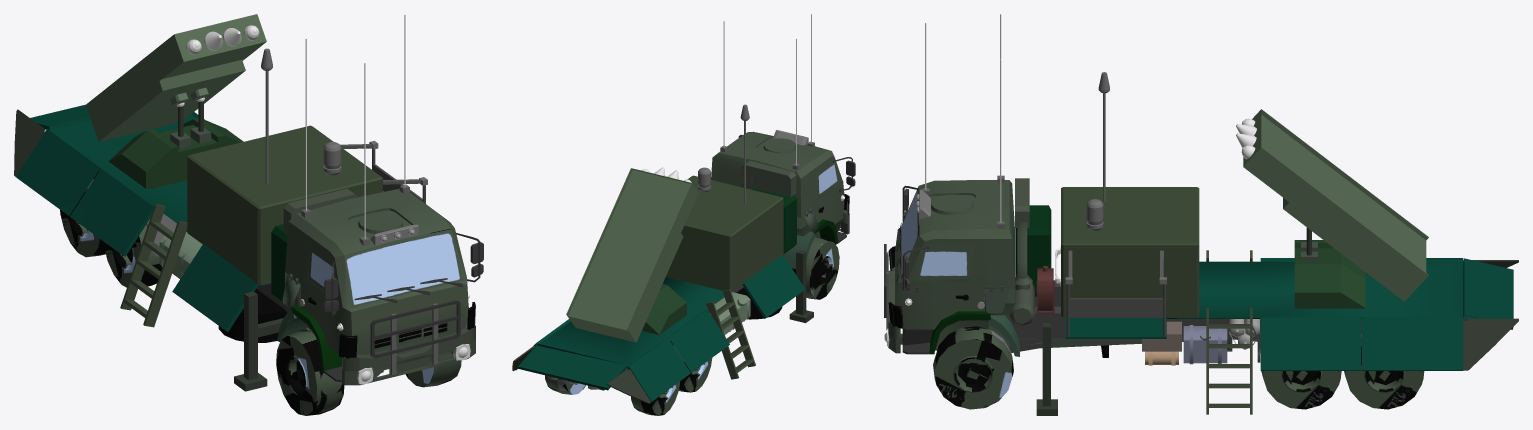
File: everything-is-deployed.fbx
The picture shows the model from 3 angles, left to right: view 1: azimuth 30°, elevation 25°; view 2: azimuth 150°, elevation 25°; view 3: azimuth 270°, elevation 25°; orthographic projection. The views are drawn at different scales.
Parts seen in each view (by area): view 1: Куб.131, Куб.136, Cube, Cube.002, Цилиндр.051, Cube.001, Cube.008, Куб.096, Cube.016, Cube.007, Цилиндр.053, Cube.011 (+16 smaller); view 2: Куб.136, Cube.002, Cube, Куб.131, Цилиндр.051, Cube.008, Цилиндр.059, Cube.001, Цилиндр.001, Cube.015, Cube.016, Cube.011 (+6 smaller); view 3: Куб.136, Cube, Куб.131, Cube.002, Цилиндр.051, Cube.001, Цилиндр.001, Цилиндр.053, Цилиндр.059, Куб.118, Cube.018, Cube.015 (+12 smaller).
Boxes of the visible parts, <box> form: Куб.131: <box>285,188,475,372</box>; Куб.136: <box>16,104,270,331</box>; Cube: <box>187,125,382,285</box>; Cube.002: <box>86,14,266,141</box>; Цилиндр.051: <box>276,329,461,415</box>; Cube.001: <box>108,118,243,188</box>; Cube.008: <box>120,204,187,327</box>; Куб.096: <box>342,325,475,385</box>; Cube.016: <box>234,291,283,391</box>; Cube.007: <box>370,300,460,358</box>; Цилиндр.053: <box>103,225,162,287</box>; Cube.011: <box>14,109,45,176</box>; Куб.136: <box>515,254,805,401</box>; Cube.002: <box>566,168,698,342</box>; Cube: <box>666,175,783,291</box>; Куб.131: <box>711,131,849,237</box>; Цилиндр.051: <box>792,237,839,299</box>; Cube.008: <box>706,289,755,379</box>; Цилиндр.059: <box>740,161,796,197</box>; Cube.001: <box>642,284,686,334</box>; Цилиндр.001: <box>545,375,680,415</box>; Cube.015: <box>751,188,796,253</box>; Cube.016: <box>789,250,813,323</box>; Cube.011: <box>607,369,650,403</box>; Куб.136: <box>1065,258,1513,370</box>; Cube: <box>1061,187,1199,317</box>; Куб.131: <box>888,180,1014,350</box>; Cube.002: <box>1243,109,1428,301</box>; Цилиндр.051: <box>933,326,1013,409</box>; Cube.001: <box>1294,240,1365,308</box>; Цилиндр.001: <box>1344,334,1424,409</box>; Цилиндр.053: <box>1261,371,1341,409</box>; Цилиндр.059: <box>1009,178,1034,325</box>; Куб.118: <box>1006,280,1468,352</box>; Cube.018: <box>1069,298,1163,317</box>; Cube.015: <box>1015,205,1051,296</box>.
Size of the model in its own units: 732 by 1240 by 2029.
Materials: 67 (5 with a texture image).
